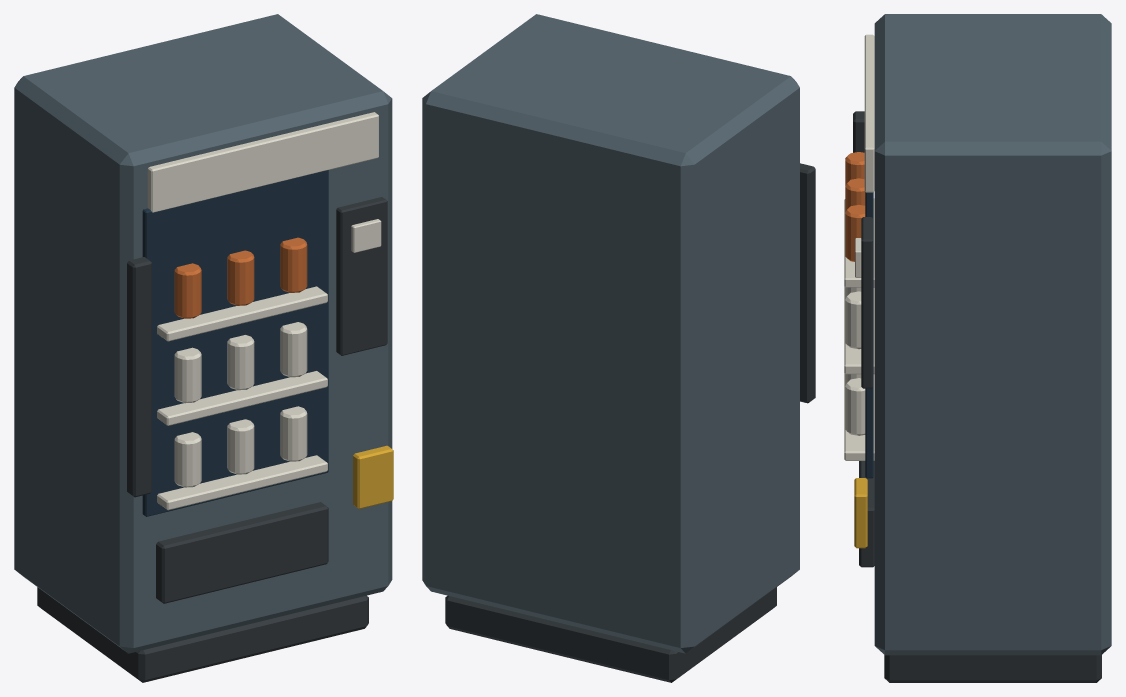
The model's file is BH_Searchable_VendingMachine.glb.
3 renders of one model, left to right at view 1: azimuth 30°, elevation 25°; view 2: azimuth 150°, elevation 25°; view 3: azimuth 270°, elevation 25°, orthographic. The views are drawn at different scales.
Parts seen in each view (by area): view 1: BH_Searchable_VendingMachine_RenderMesh; view 2: BH_Searchable_VendingMachine_RenderMesh; view 3: BH_Searchable_VendingMachine_RenderMesh.
Boxes of the visible parts, <box> form: BH_Searchable_VendingMachine_RenderMesh: <box>14,14,393,682</box>; BH_Searchable_VendingMachine_RenderMesh: <box>422,14,815,682</box>; BH_Searchable_VendingMachine_RenderMesh: <box>844,14,1111,682</box>.
Size of what is drawn, in the model's own units: 0.985 by 1.84 by 0.812.
